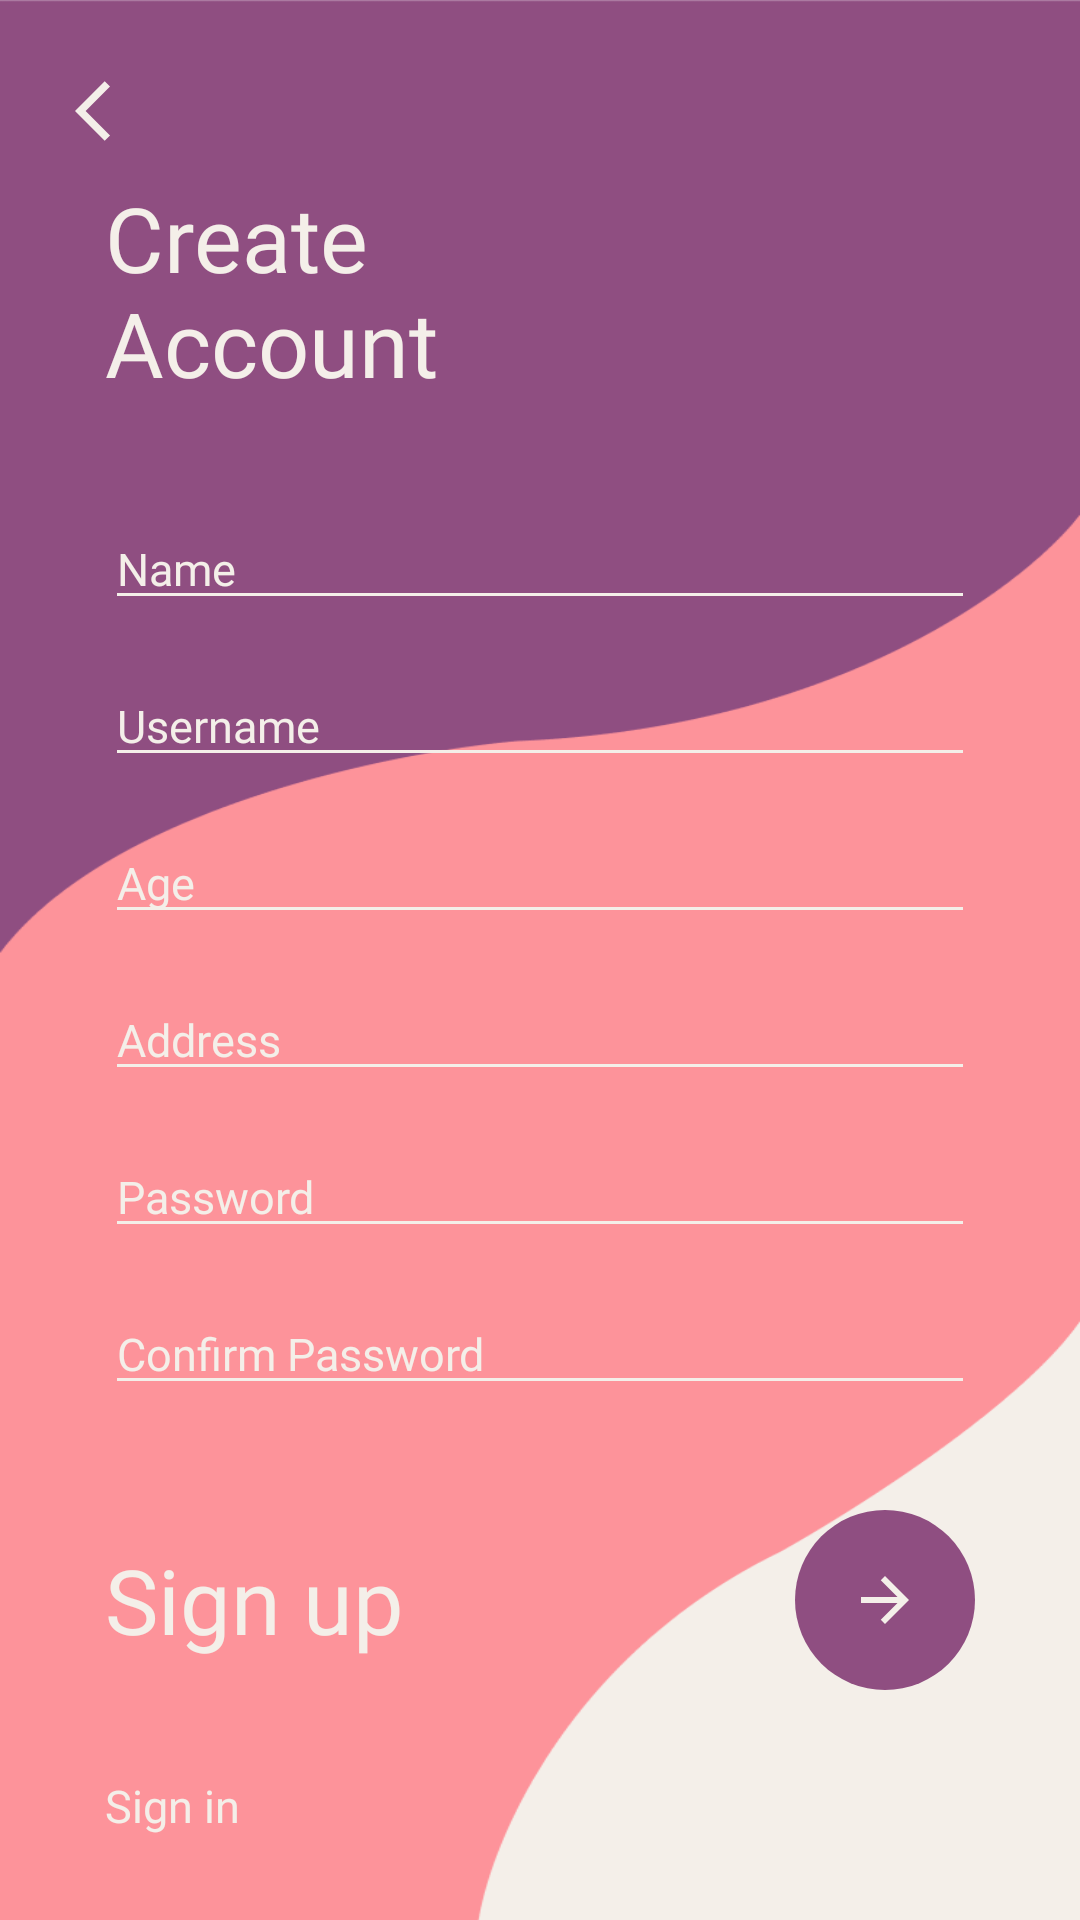

Point at icon controls on the screen. Image size 1080 x 1920, points as point (x, y).
arrow back: point (92, 111)
arrow forward: point (885, 1600)
